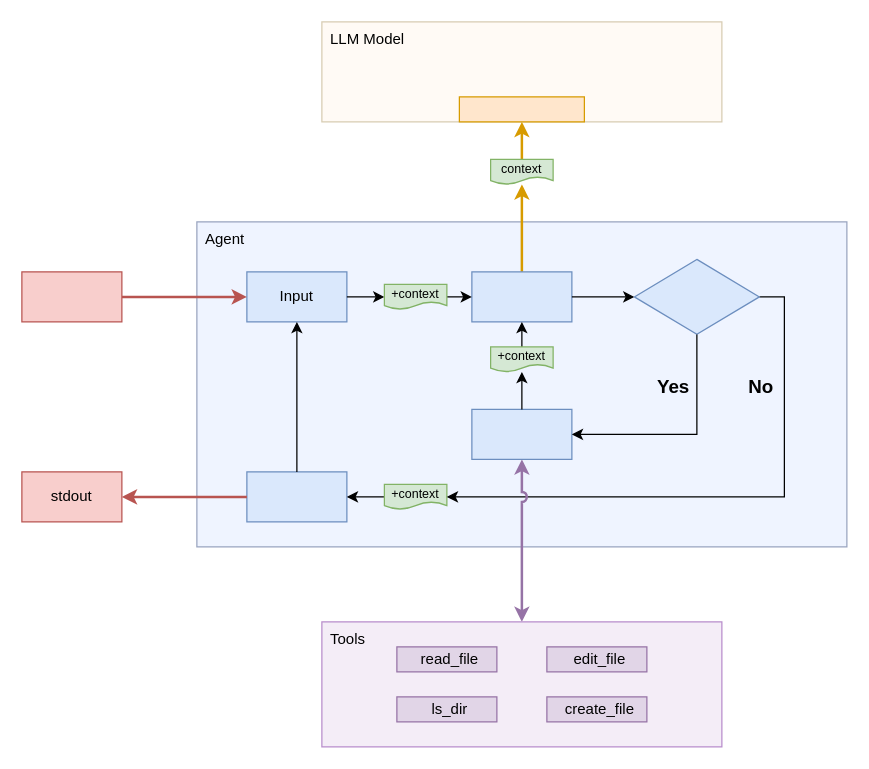
The diagram is 869 pixels wide and 769 high, and some of its shapes have lost their labels. The centre of each missing label's shape, as x and y in pixels:
"API" belongs at (521,109).
"Call Tool" belongs at (521,433).
"Completion" belongs at (521,296).
"Output" belongs at (296,496).
"stdin" belongs at (71,296).
"Tool Call?" belongs at (696,296).
